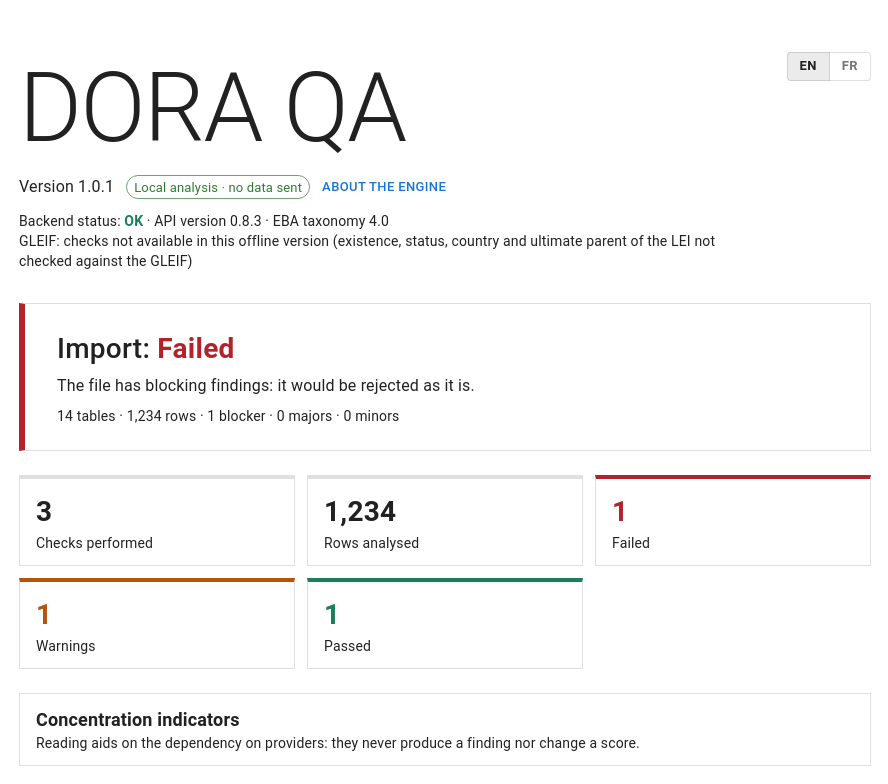
it: Concentration indicators when they cannot be calculated (brief §13) › says NOT_APPLICABLE in words and shows no figure
Earlier steps of the test are not shown.
Click the button "Concentration indicators" at coordinates (138, 719), box [20,694,870,765]
(page scrolled)
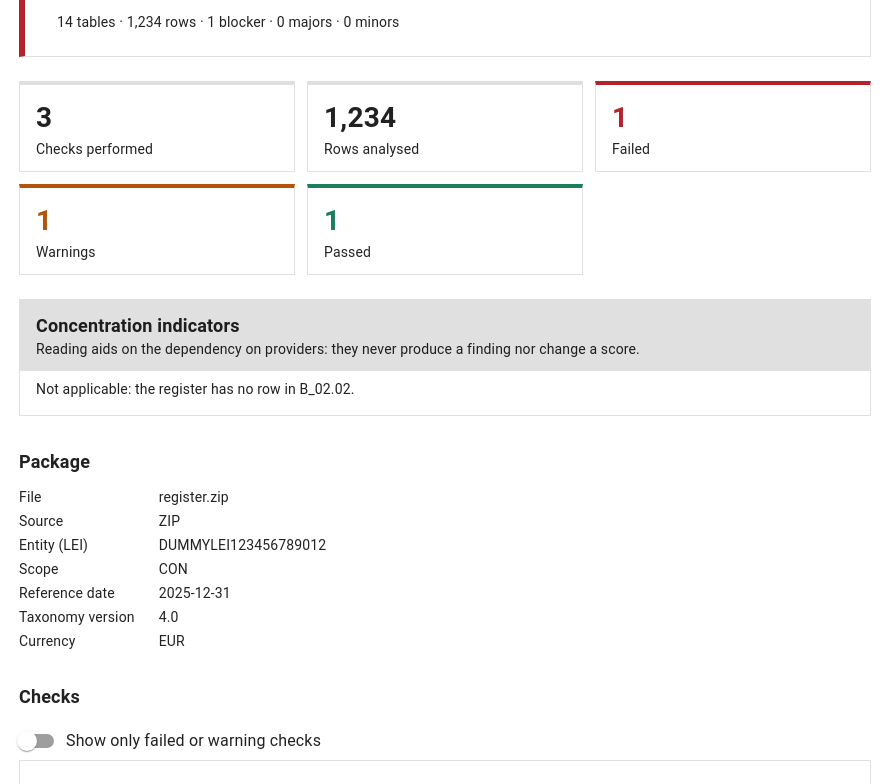
Expected: the text "Not applicable: the register has no row in B_02.02." is shown, [36,381,355,397]
